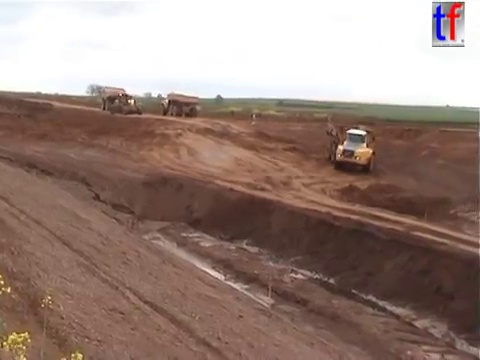motor grader: (106, 92, 144, 116)
truck: (323, 111, 379, 174), (158, 90, 202, 118), (97, 85, 133, 112)
